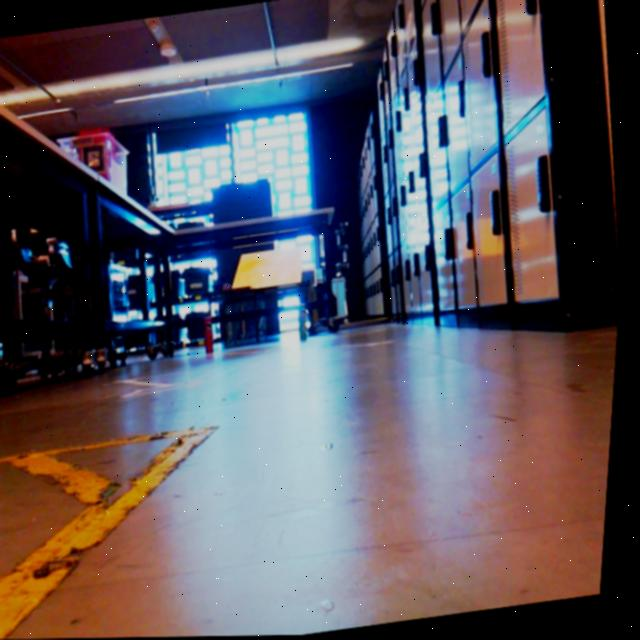greenpringles: (293, 299, 321, 345)
redpringles: (197, 313, 224, 361)
